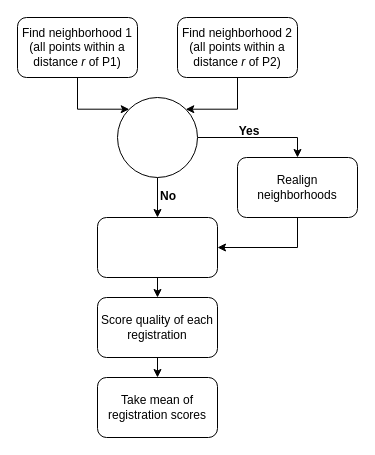
Some shapes in this 375 by 455 pixel diagram are drawn without their labels. The shapes that lost their labels are listed below. From the top down, each one's centre as x and y in pixels, then its label:
point (157, 137): Realignment desired?
point (157, 247): Register points in neighborhood 1 to points in neighborhood 2
